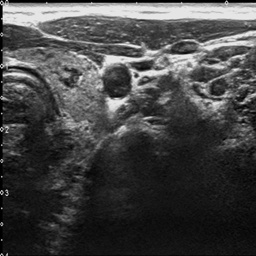mass: (55, 61, 82, 87)
